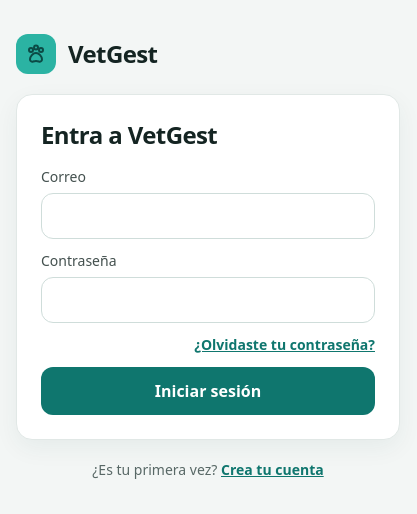
LoginPage › inicia sesión y traduce credenciales incorrectas
Type "ana@clinica.com" into the field labelled "Correo".
click(208, 216); type("ana@clinica.com")  # box [41,193,375,239]
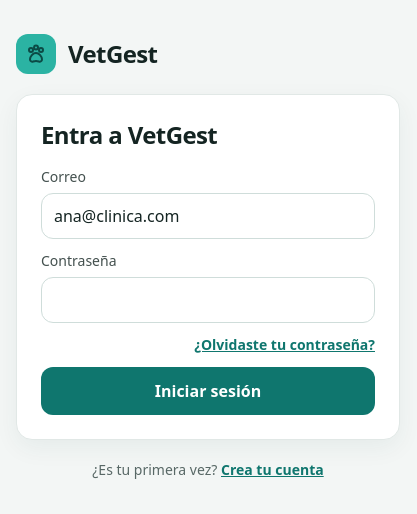
Type "mala" into the password field labelled "Contraseña".
click(208, 300); type("mala")  # box [41,277,375,323]
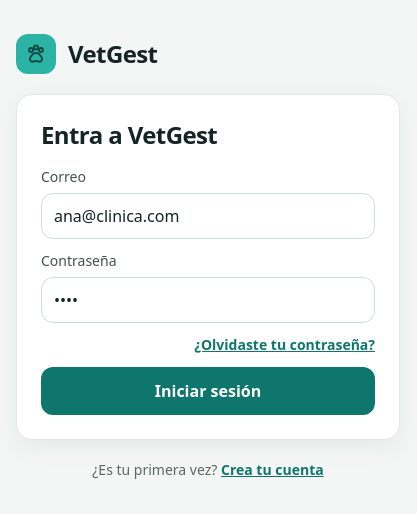
Click the button "Iniciar sesión".
click(208, 391)  # box [41,367,375,415]
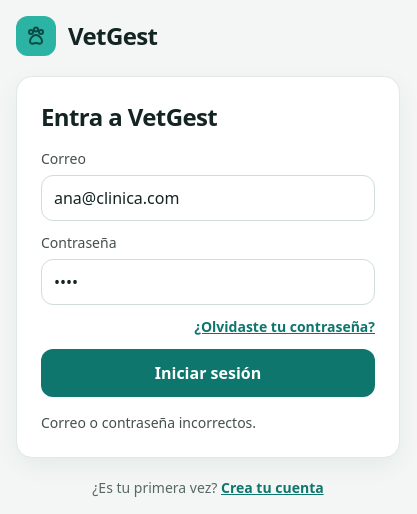
Expected: the message reads "Correo o contraseña incorrectos.", [41,413,256,432]
